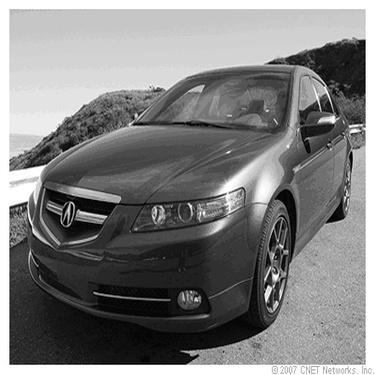car: (17, 57, 355, 343)
